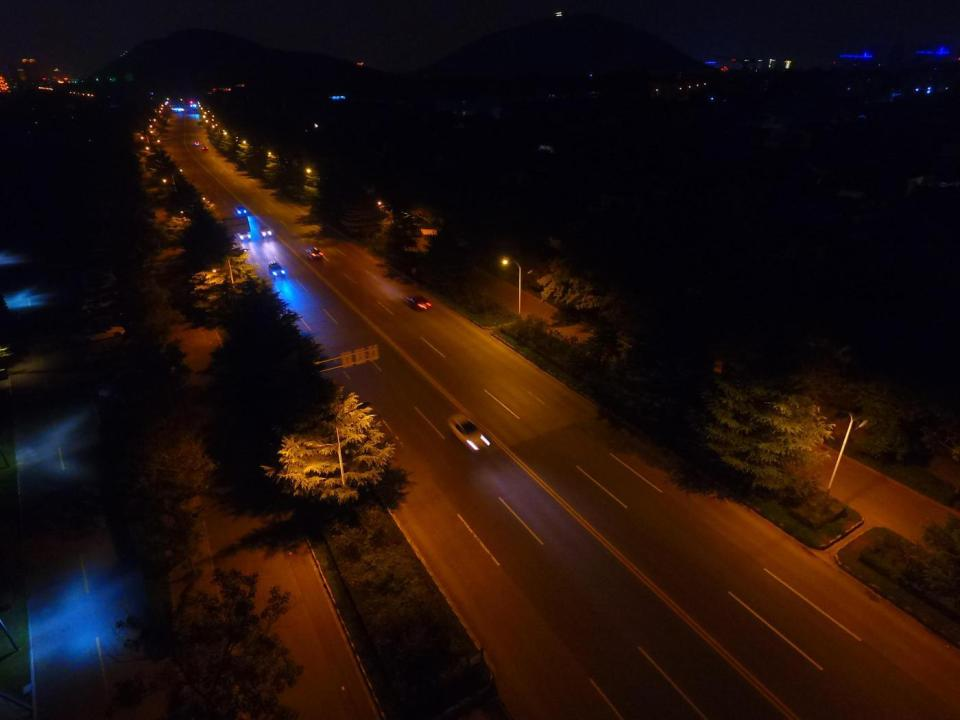car: (446, 411, 490, 452), (74, 314, 126, 346), (404, 294, 430, 310), (267, 259, 285, 281), (236, 227, 252, 243), (256, 225, 273, 240), (306, 247, 323, 260), (235, 207, 247, 216), (201, 144, 208, 152), (192, 139, 200, 146)
